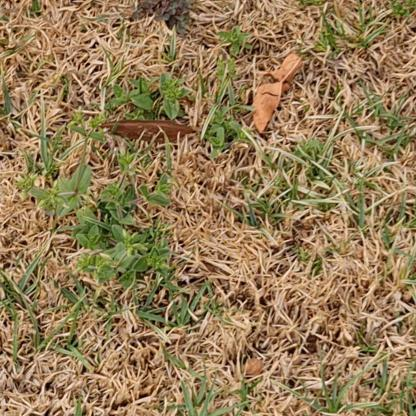Weeds: (18, 115, 172, 287), (108, 66, 246, 155)
